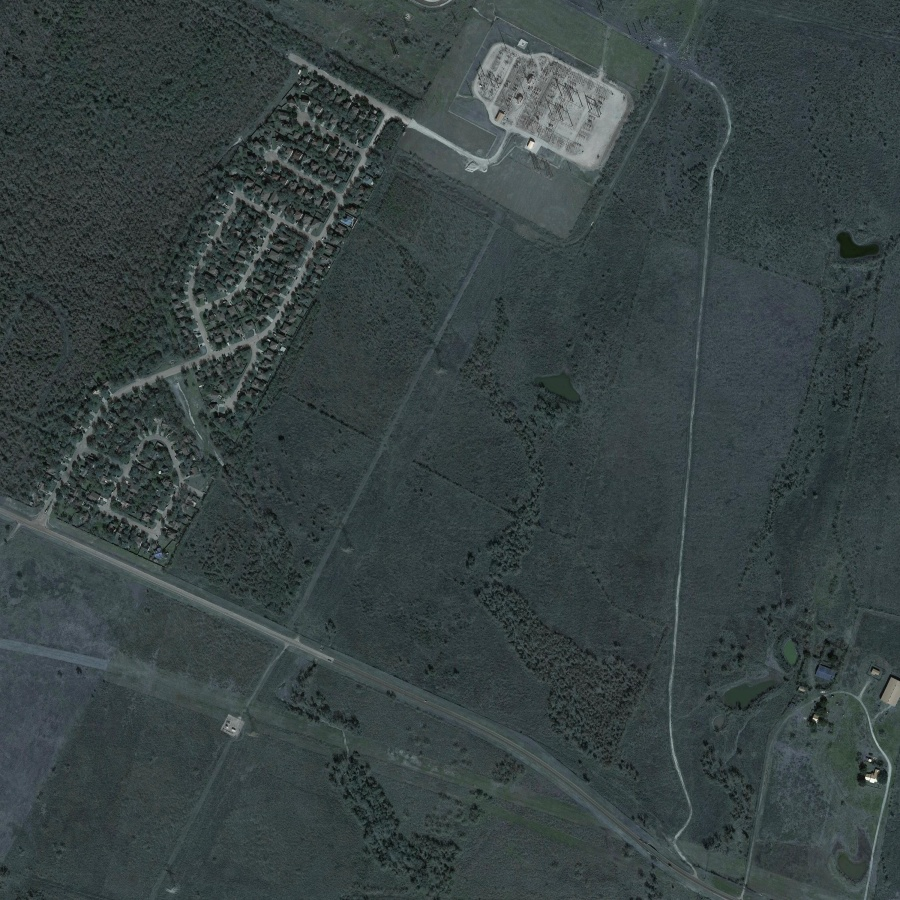PowerPlant: (470, 27, 616, 164)
